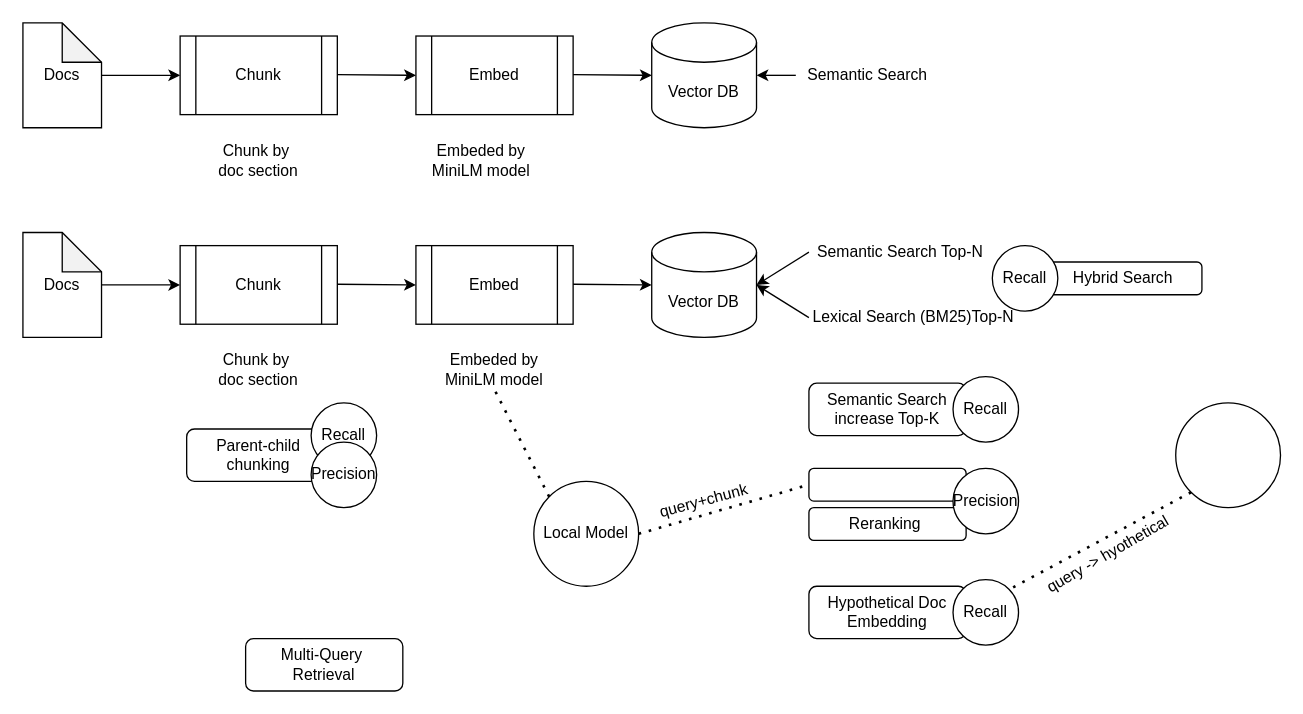
Image size: 1303x714. Some labels were removed from this diagram. The shapes that lost their labels are listed below. From the top down, each one's centre as x and y in pixels, then its label:
the point at 1227,455: LLM
the point at 887,484: Cross-Encoder
